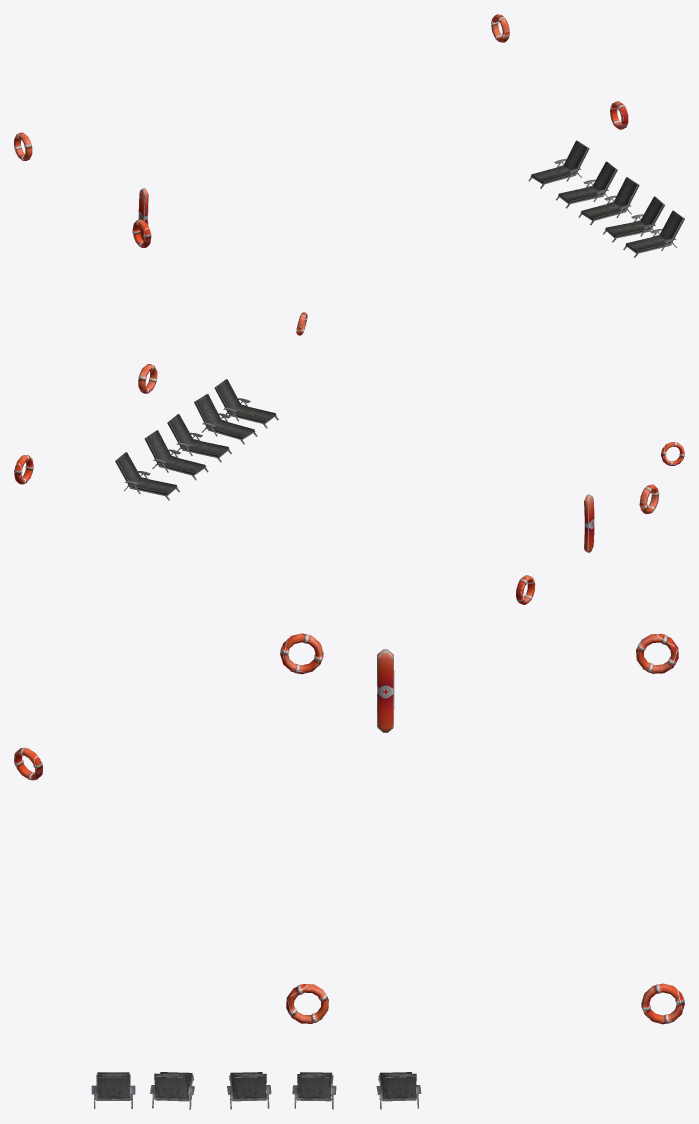
File: lifepreserversfixed.fbx
The picture shows the model from 3 angles, top to bottom: view 1: azimuth 30°, elevation 25°; view 2: azimuth 150°, elevation 25°; view 3: azimuth 270°, elevation 25°; orthographic projection. The views are drawn at different scales.
Parts seen in each view (by area): view 1: BeachChair2.004, BeachChair2.002, BeachChair2, BeachChair2.003, BeachChair2.001; view 2: BeachChair2.001, BeachChair2.003, BeachChair2, BeachChair2.002, BeachChair2.004, Cube.009, Life Buoy, Life Buoy.001, Life Buoy.002, Life Buoy.003; view 3: Cube.009, BeachChair2.001, BeachChair2.004, BeachChair2.002, BeachChair2.003, BeachChair2, Life Buoy, Life Buoy.002, Life Buoy.001, Life Buoy.003.
Part boxes in pixels (<box>): BeachChair2.004: <box>528,140,589,188</box>; BeachChair2.002: <box>578,177,639,225</box>; BeachChair2: <box>623,210,684,257</box>; BeachChair2.003: <box>555,161,617,208</box>; BeachChair2.001: <box>603,196,664,242</box>; BeachChair2.001: <box>194,394,257,444</box>; BeachChair2.003: <box>144,430,208,480</box>; BeachChair2: <box>214,379,278,428</box>; BeachChair2.002: <box>167,414,231,462</box>; BeachChair2.004: <box>115,452,179,500</box>; Cube.009: <box>584,494,594,552</box>; Life Buoy: <box>639,484,659,513</box>; Life Buoy.001: <box>516,575,535,604</box>; Life Buoy.002: <box>14,455,33,484</box>; Life Buoy.003: <box>138,364,157,393</box>; Cube.009: <box>377,649,394,732</box>; BeachChair2.001: <box>150,1072,194,1109</box>; BeachChair2.004: <box>376,1072,421,1109</box>; BeachChair2.002: <box>227,1072,271,1109</box>; BeachChair2.003: <box>292,1072,336,1109</box>; BeachChair2: <box>91,1072,135,1108</box>; Life Buoy: <box>280,633,323,674</box>; Life Buoy.002: <box>641,983,684,1024</box>; Life Buoy.001: <box>636,633,678,673</box>; Life Buoy.003: <box>286,984,328,1023</box>.
Bounding box in the file's own units: 2331 × 434 × 1861.
Materials: 1 (1 with a texture image).
